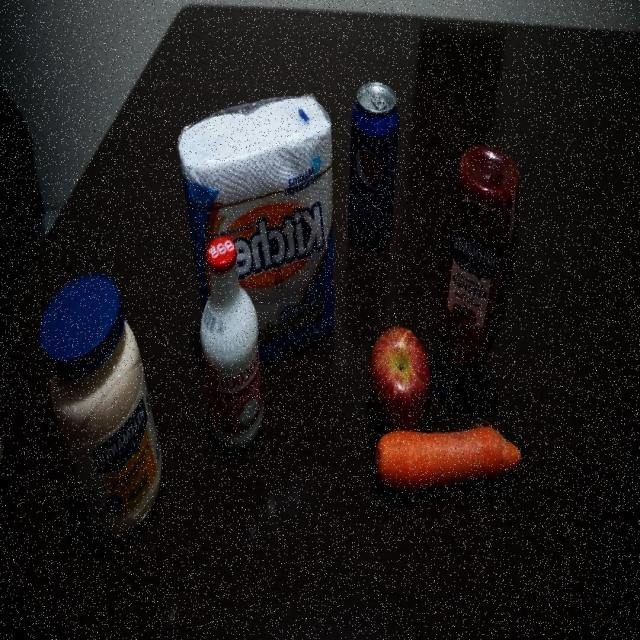Apple: (365, 321, 433, 430)
Carrot: (369, 422, 526, 499)
CoconutMilk: (198, 232, 267, 457)
Ketchup: (435, 141, 526, 418)
Mayonnaise: (38, 269, 166, 543)
Napkin: (174, 79, 338, 381)
SodaCan: (346, 78, 401, 260)
